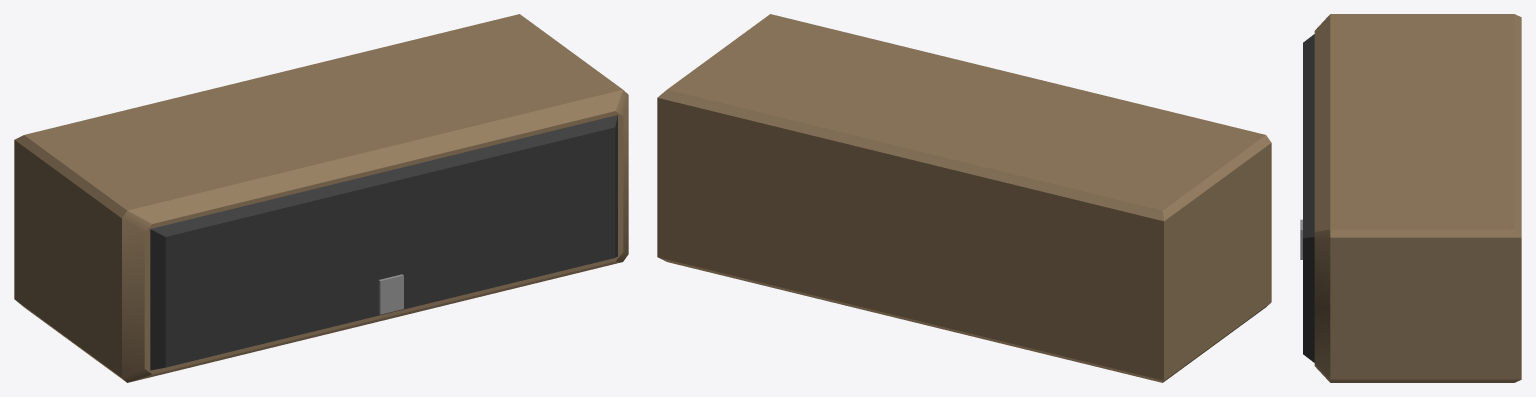
File: YMH8900c.FBX
3 renders of one model, left to right at view 1: azimuth 30°, elevation 25°; view 2: azimuth 150°, elevation 25°; view 3: azimuth 270°, elevation 25°, orthographic. The views are drawn at different scales.
Visible parts, largest first — view 1: YMH8900c; view 2: YMH8900c; view 3: YMH8900c.
Boxes of the visible parts, bbox=[...] form: YMH8900c: bbox=[14, 14, 628, 382]; YMH8900c: bbox=[657, 14, 1271, 382]; YMH8900c: bbox=[1300, 14, 1521, 382].
Size of the model in its own units: 40 by 17 by 13.
